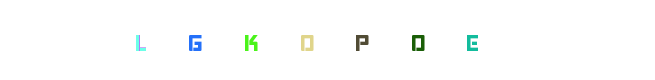E: (431, 0, 511, 80)
G: (174, 0, 254, 80)
K: (210, 0, 290, 80)
L: (154, 0, 234, 80)
O: (284, 0, 364, 80), (352, 0, 432, 80)
P: (287, 0, 367, 80)
